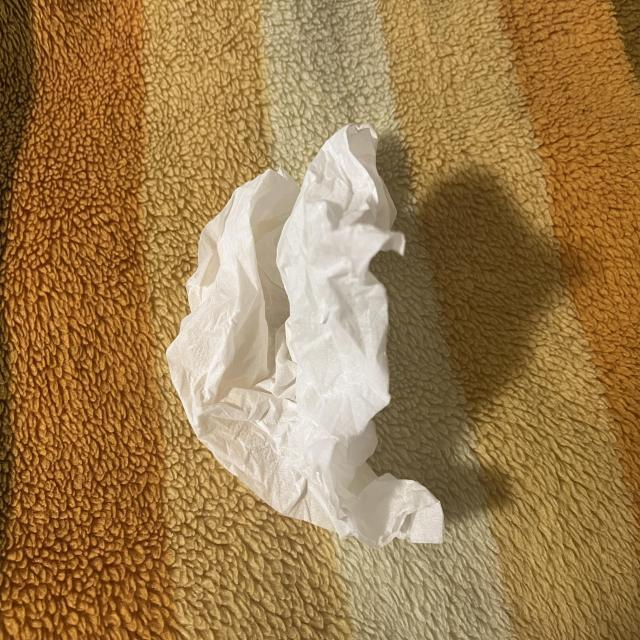Paper: (161, 113, 459, 559)
